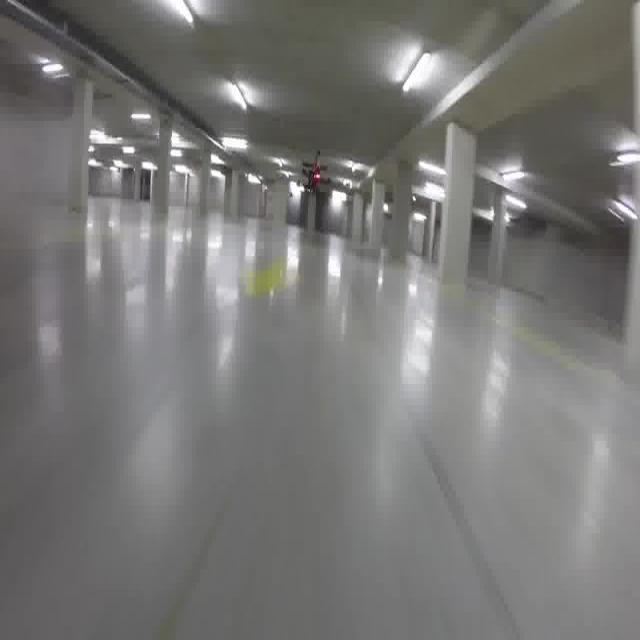drone: (298, 159, 333, 196)
